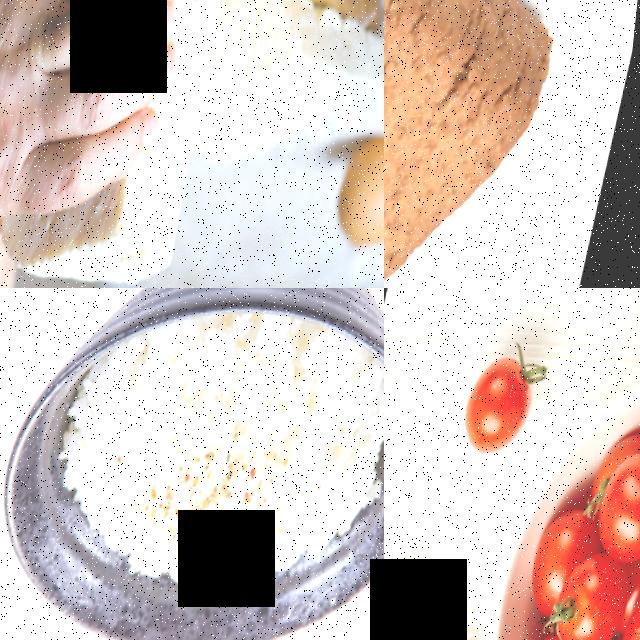egg: (328, 132, 384, 268)
tomato: (455, 337, 548, 465), (550, 552, 640, 640), (591, 448, 640, 571), (384, 575, 429, 640)
white rice: (101, 319, 384, 489)
